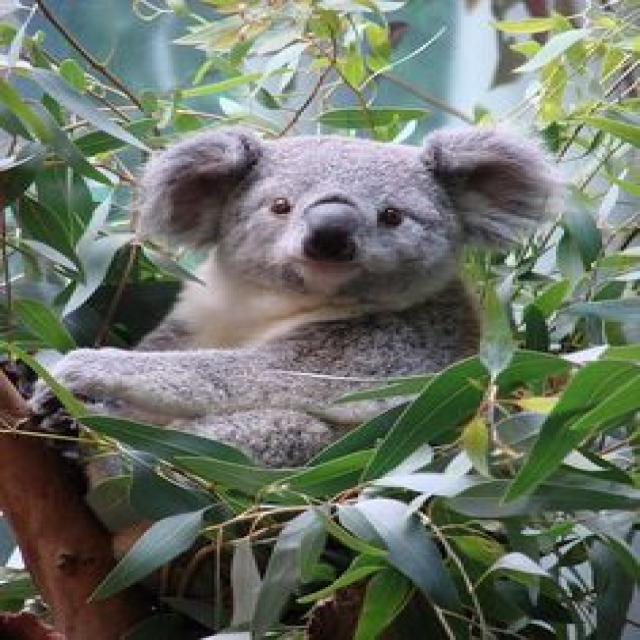Herbivorous: (41, 126, 567, 465)
